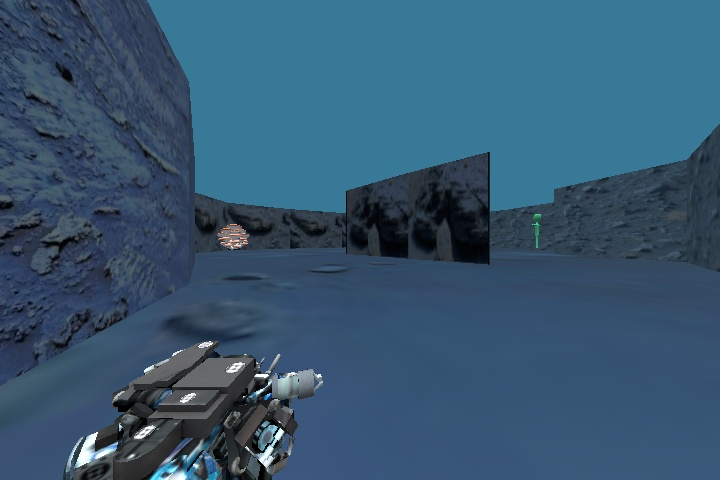green_alien: (526, 211, 547, 249)
mushrooms: (207, 214, 257, 256)
